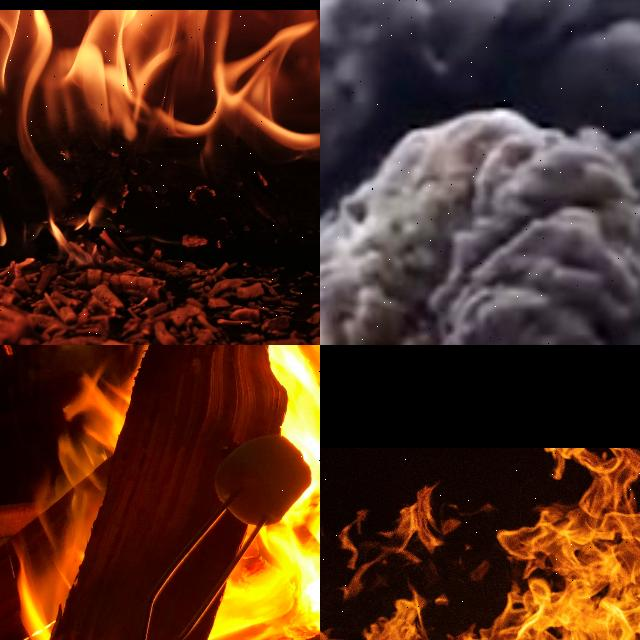fire: (0, 10, 320, 262), (459, 449, 640, 640), (210, 345, 320, 640), (60, 377, 132, 482)
smoke: (320, 0, 640, 345), (320, 21, 640, 345)
